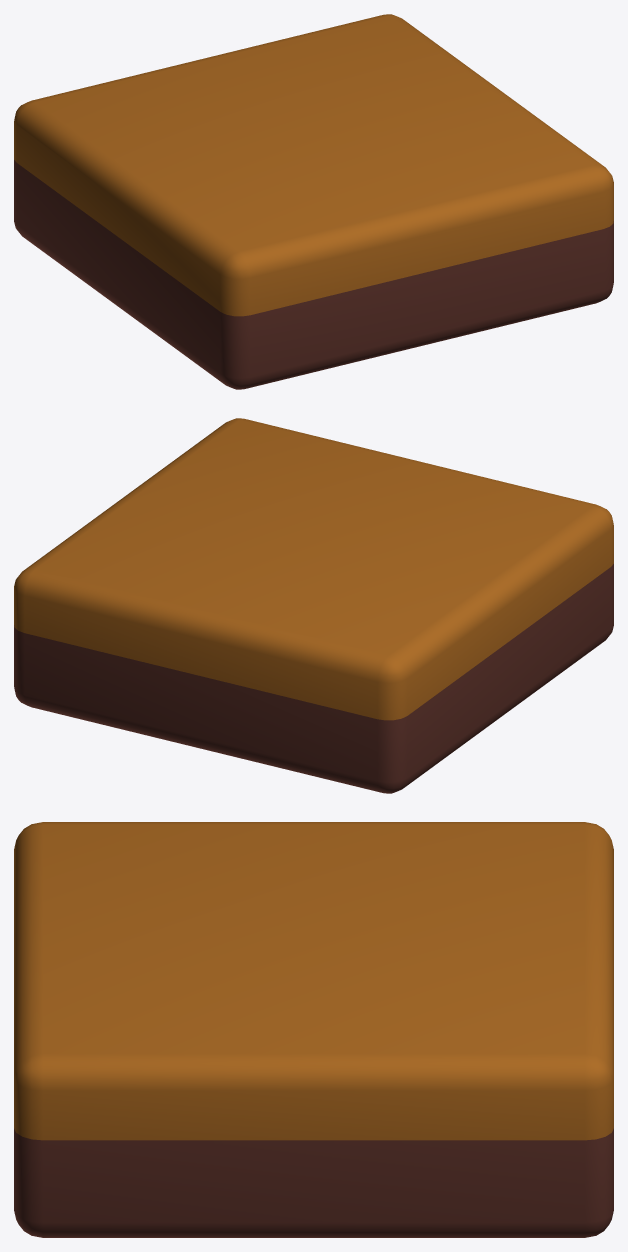
The model's file is Cube-Soil_002.fbx.
3 renders of one model, top to bottom at view 1: azimuth 30°, elevation 25°; view 2: azimuth 150°, elevation 25°; view 3: azimuth 270°, elevation 25°, orthographic. The views are drawn at different scales.
Visible parts, largest first — view 1: Cube-Soil.002; view 2: Cube-Soil.002; view 3: Cube-Soil.002.
Part boxes in pixels (left/top/right/bottom): Cube-Soil.002: left=14, top=14, right=613, bottom=389; Cube-Soil.002: left=14, top=418, right=613, bottom=793; Cube-Soil.002: left=14, top=822, right=613, bottom=1237.
Size of the model in its own units: 14.29 by 4.76 by 14.29.
